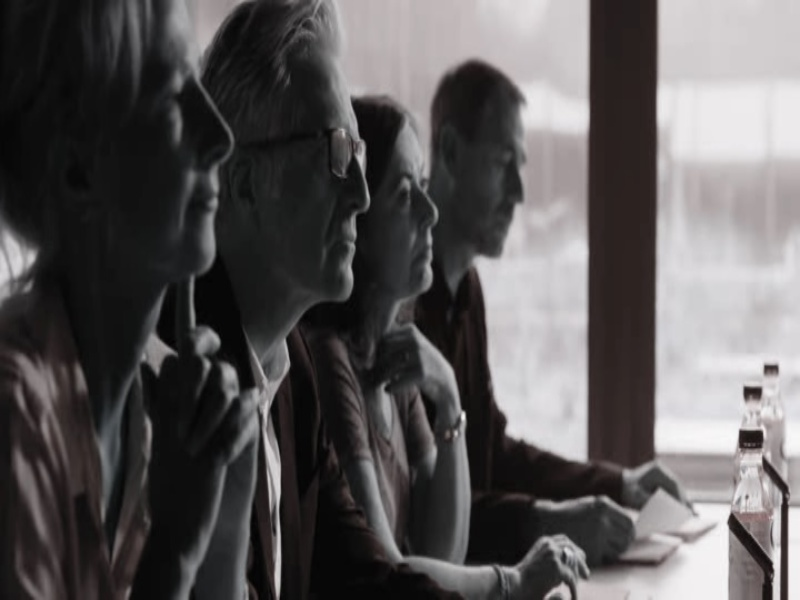TsisyArotava: (240, 25, 389, 317), (108, 8, 250, 299), (348, 93, 451, 326), (441, 63, 540, 266)
